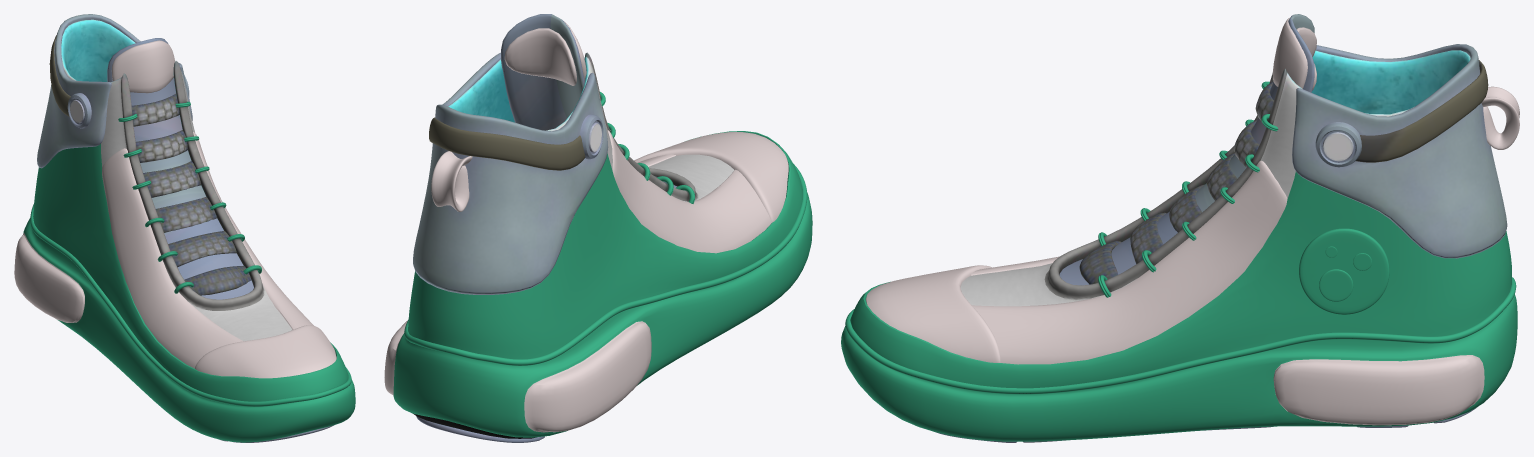
File: shoe.gltf
3 renders of one model, left to right at view 1: azimuth 30°, elevation 25°; view 2: azimuth 150°, elevation 25°; view 3: azimuth 270°, elevation 25°, orthographic. The views are drawn at different scales.
Visible parts, largest first — view 1: d_old; view 2: d_old; view 3: d_old.
Part boxes in pixels (x1,y1,x2,y2): d_old: (14, 14, 355, 442); d_old: (384, 14, 812, 442); d_old: (841, 14, 1519, 442).
Bounding box in the file's own units: 1.24 × 2.17 × 3.44.
Materials: 7 (7 with a texture image).
